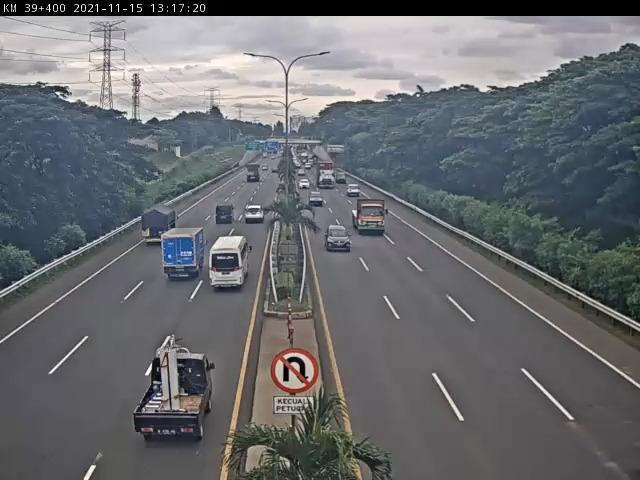bus: (208, 234, 252, 292)
car: (323, 224, 356, 252), (216, 204, 239, 227), (243, 203, 267, 225), (309, 190, 326, 209)
truck: (133, 351, 215, 440), (160, 225, 208, 281), (139, 205, 181, 246), (351, 199, 392, 237)
